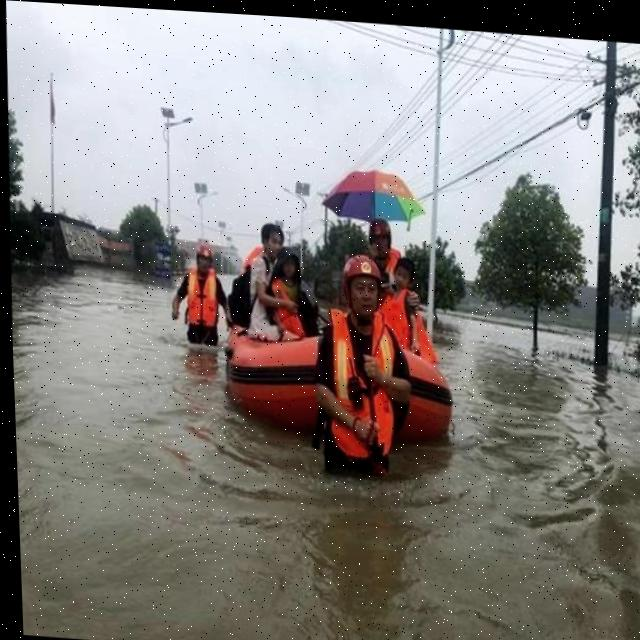civilian: (226, 218, 292, 352), (379, 249, 425, 357), (267, 247, 314, 345)
rescuer: (293, 249, 419, 504), (162, 226, 237, 374), (360, 215, 423, 318)
